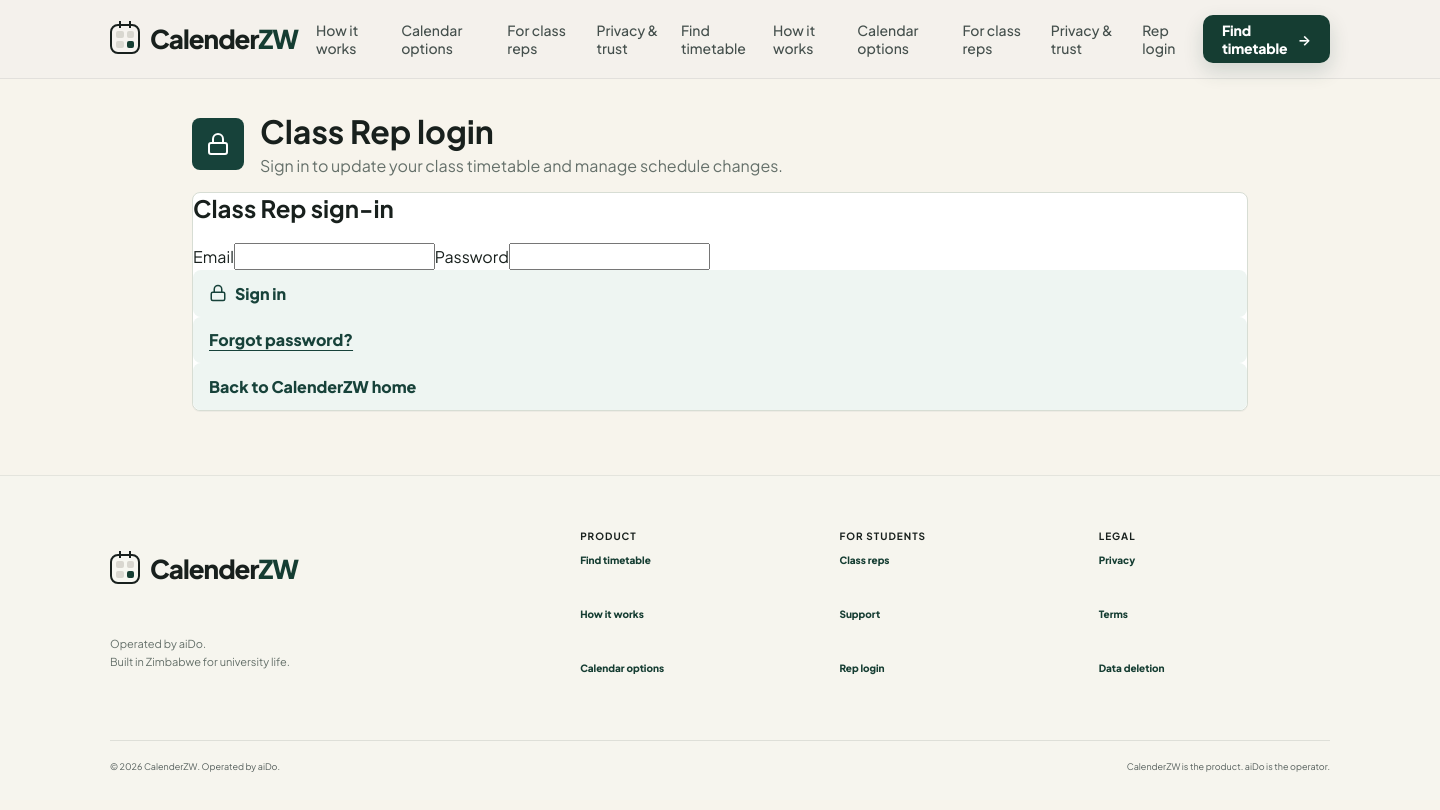
Scenario: public student flow › rejects login for authenticated users without admin authorization
Type "user@example.test" into the field labelled "Email" at (334, 256), box [234,243,435,270]
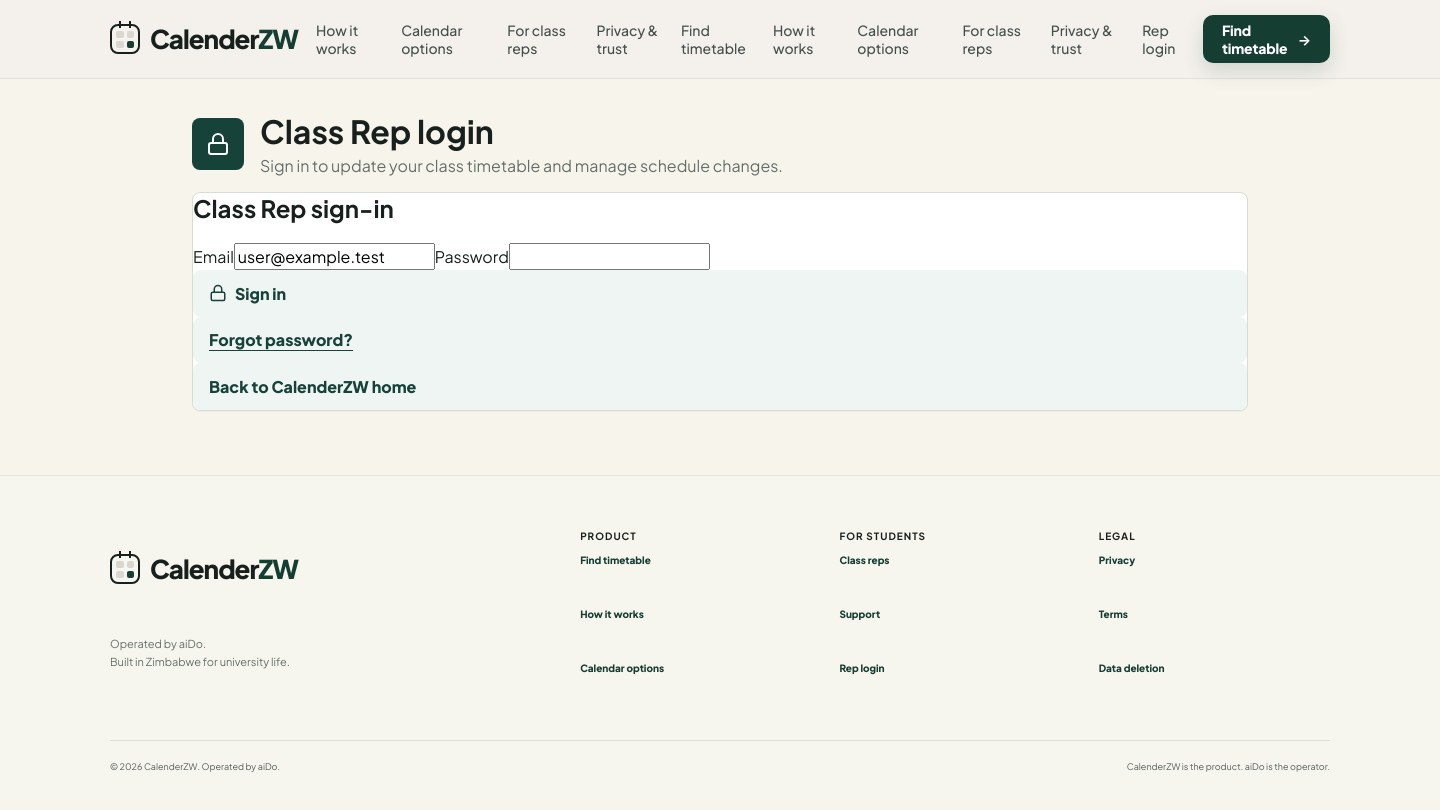
Type "correct-password" into the password field labelled "Password" at (609, 256), box [509,243,710,270]
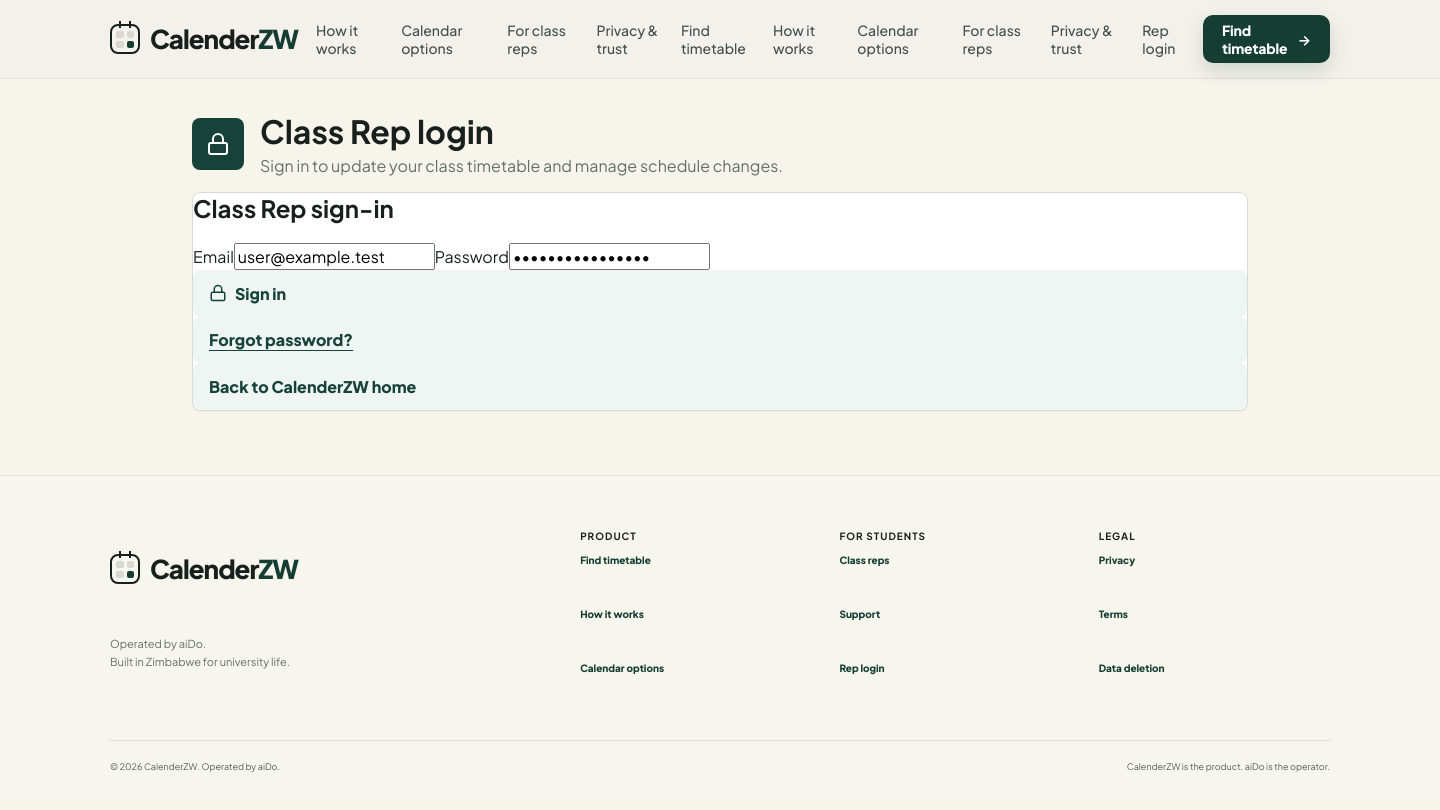
Click the button "Sign in" at (261, 293), box [193,270,1247,316]
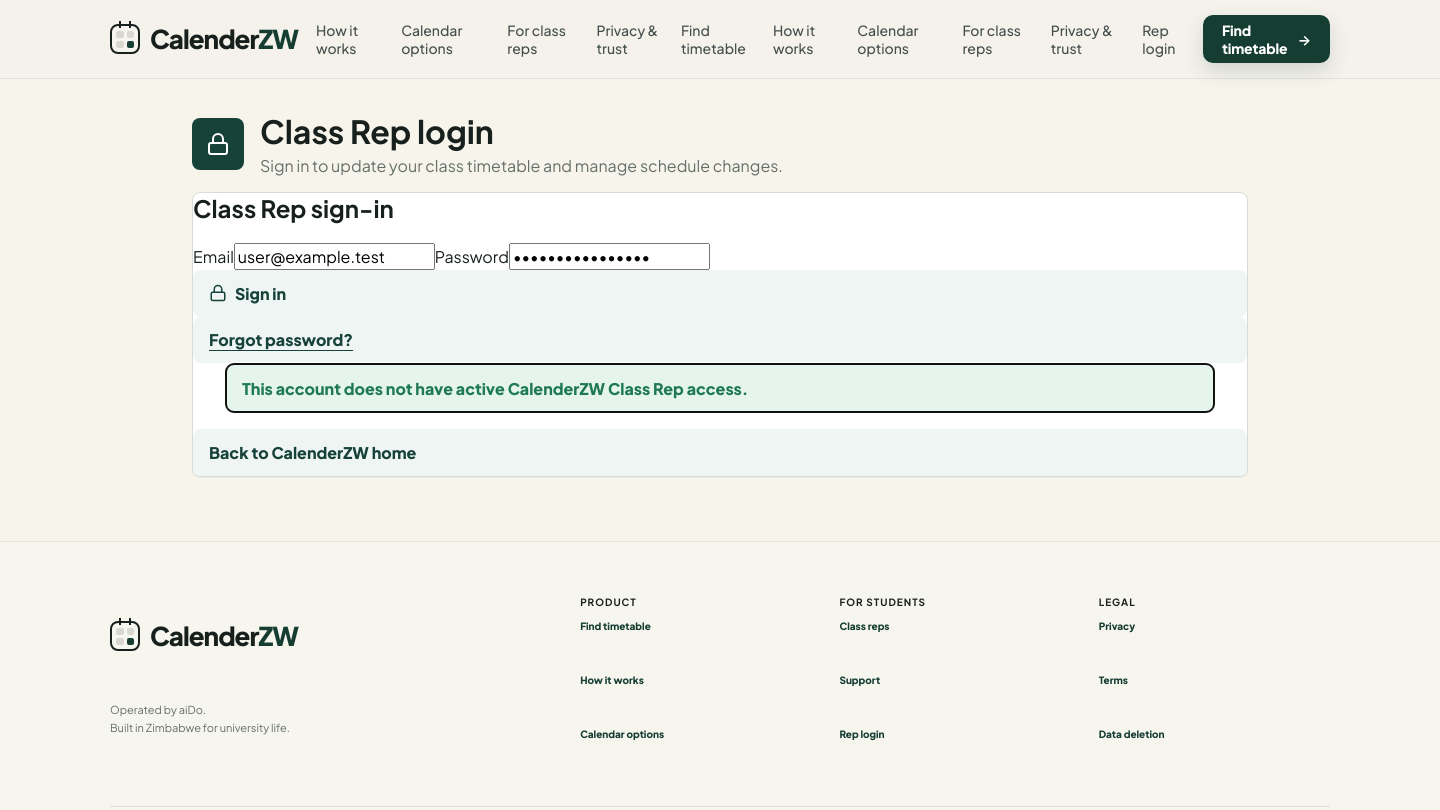
Result: the text "This account does not have active CalenderZW Class Rep access." is shown at [225,363,1215,413]
